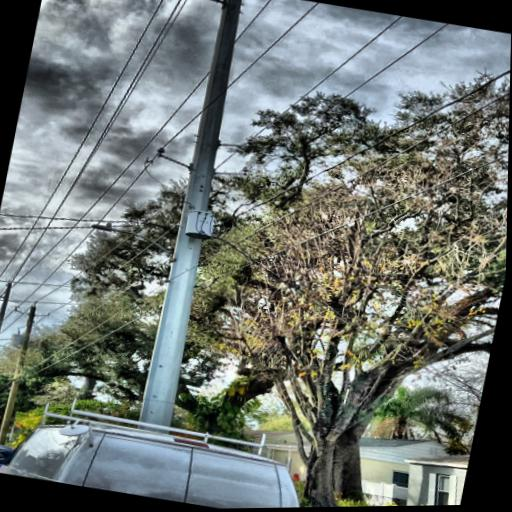pole: (125, 0, 260, 443)
